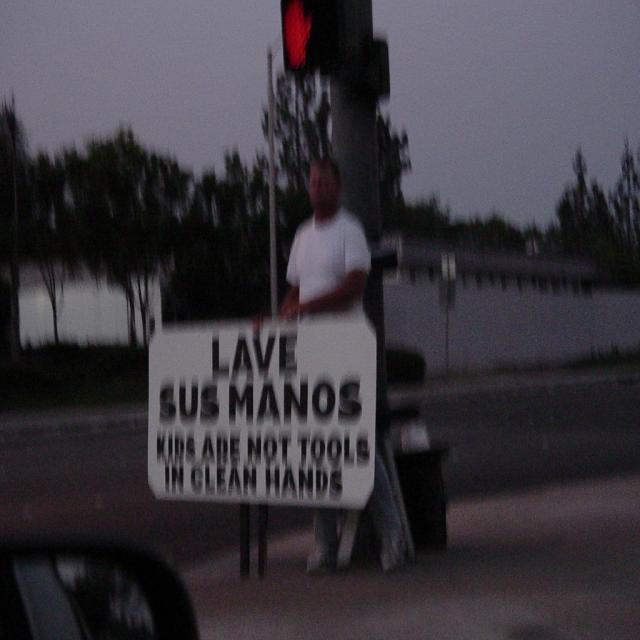traffic light: (280, 0, 330, 75)
